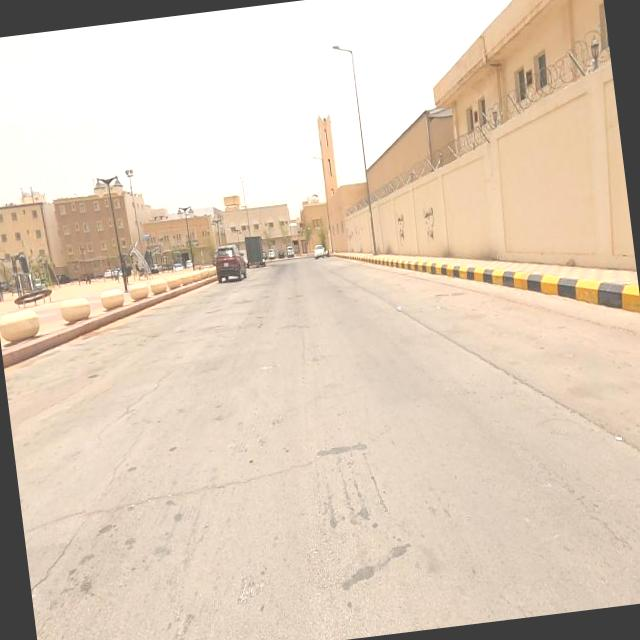debris: (404, 171, 454, 269), (376, 185, 424, 263)
